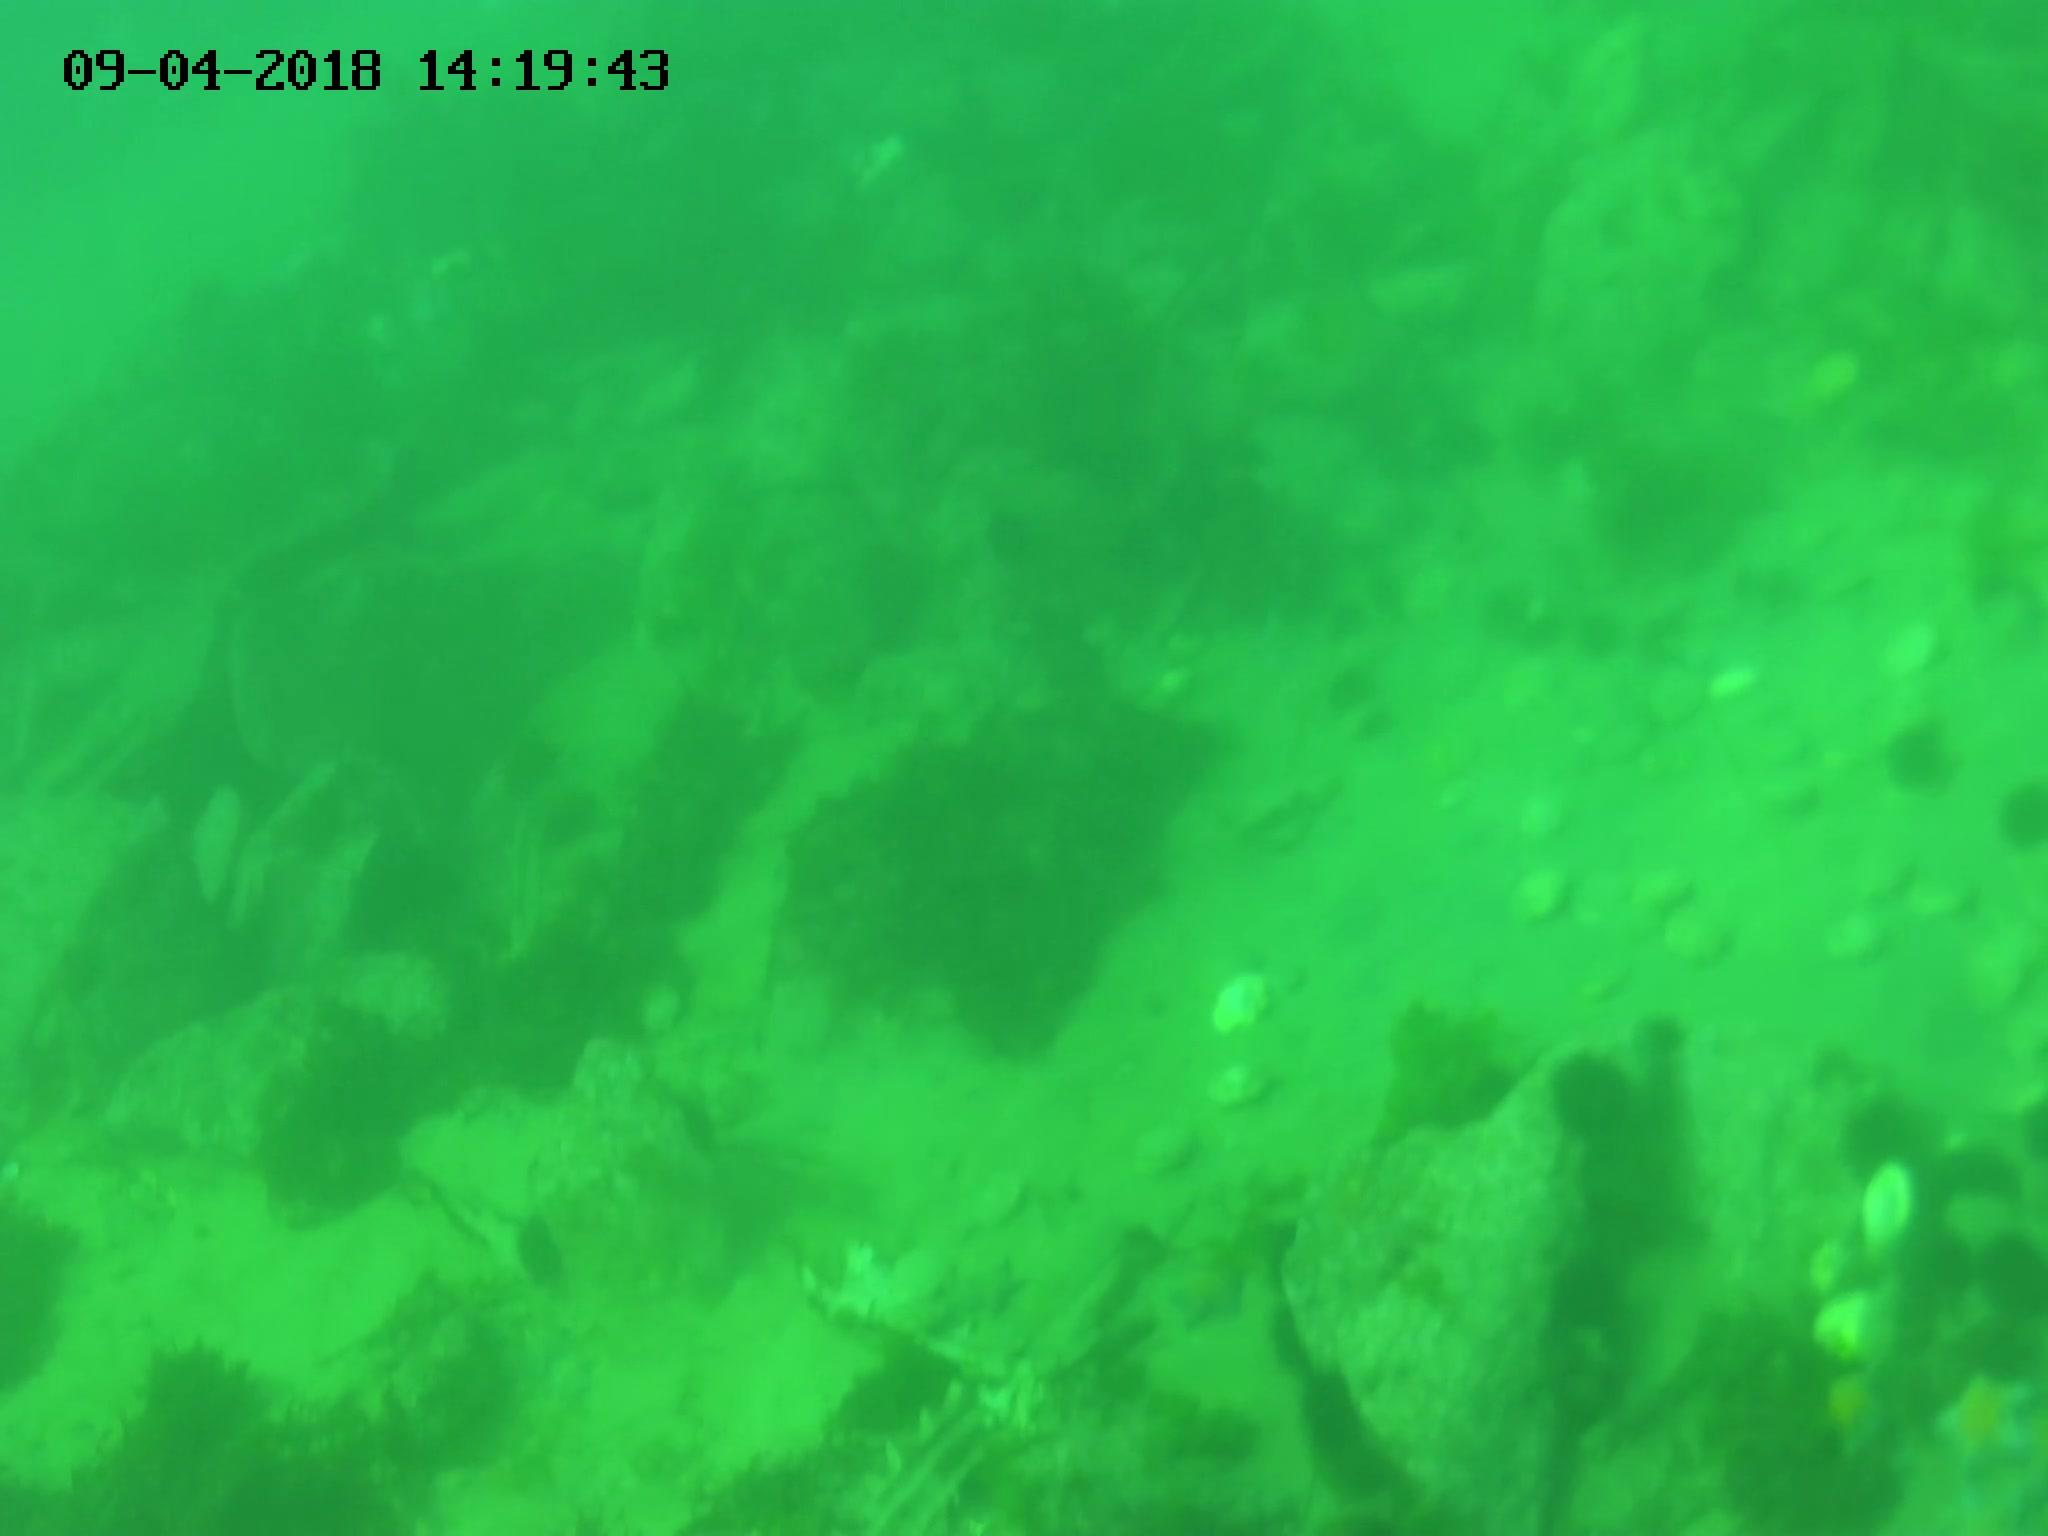echinus: (1551, 1049, 1638, 1137), (1300, 1376, 1369, 1449), (1988, 1231, 2048, 1310), (1890, 737, 1953, 800), (1577, 610, 1629, 666)
scallop: (1816, 1281, 1904, 1371), (190, 792, 252, 910), (1961, 925, 2040, 1013), (1863, 1167, 1921, 1263), (1208, 965, 1272, 1031), (1130, 1123, 1200, 1184), (1664, 918, 1738, 970), (1817, 915, 1890, 962), (1911, 868, 1982, 915), (1205, 1066, 1272, 1115), (1634, 866, 1693, 921), (1517, 866, 1574, 923), (1880, 631, 1943, 679), (1808, 353, 1861, 405), (1851, 863, 1908, 899)
starfish: (1937, 1355, 2042, 1467), (1808, 1368, 1901, 1457)
